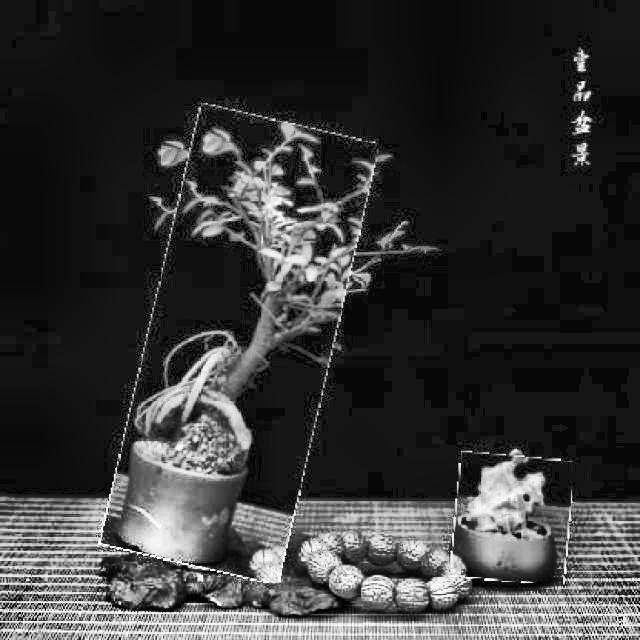plants: (122, 112, 356, 578), (454, 453, 571, 582)
